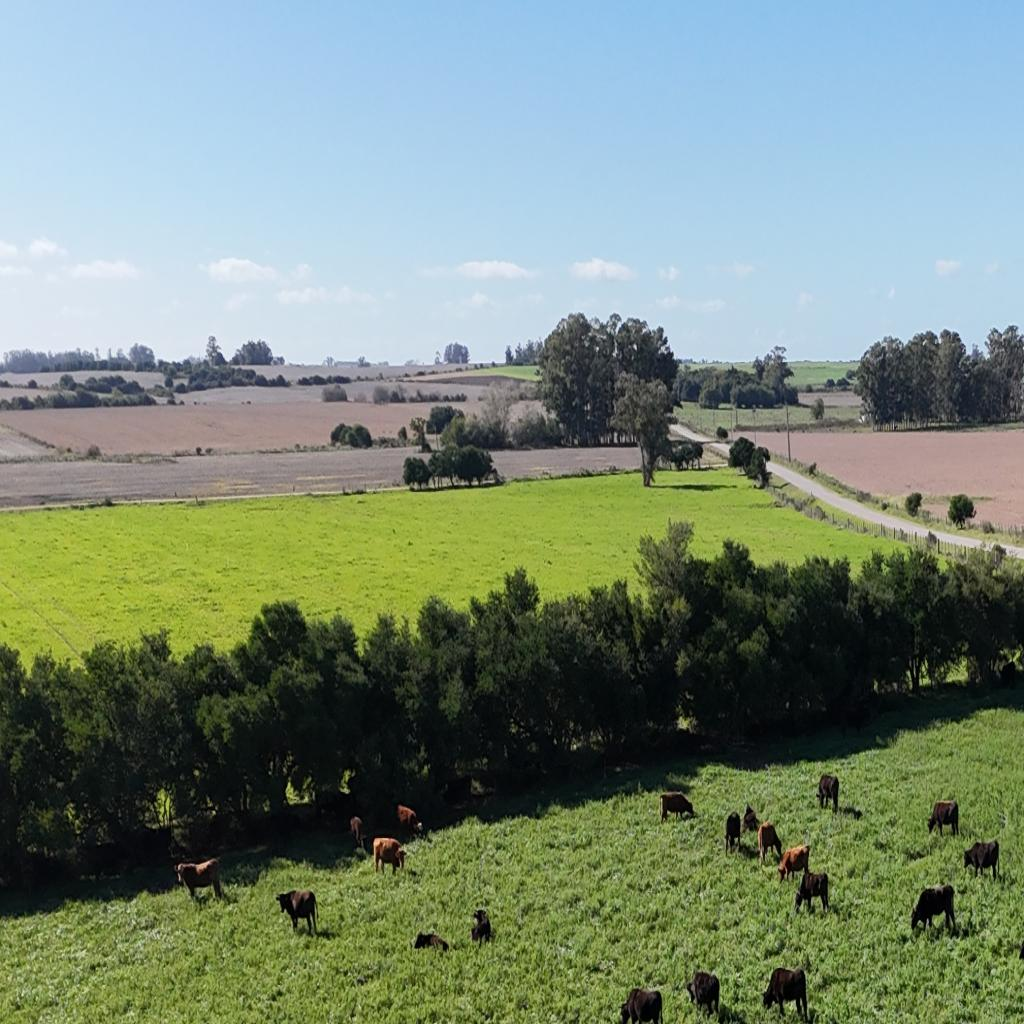cow: (761, 967, 807, 1021), (911, 883, 957, 934), (175, 860, 223, 904), (274, 888, 318, 934), (794, 865, 832, 916), (685, 970, 720, 1018), (618, 986, 662, 1024), (965, 836, 1002, 880), (927, 799, 960, 839), (776, 844, 809, 884), (373, 837, 407, 875), (757, 822, 784, 866), (658, 791, 694, 823), (396, 805, 422, 843), (817, 774, 839, 814), (471, 907, 492, 945), (413, 931, 449, 953), (724, 811, 740, 855), (996, 660, 1021, 688), (350, 816, 366, 851), (738, 805, 758, 831)
